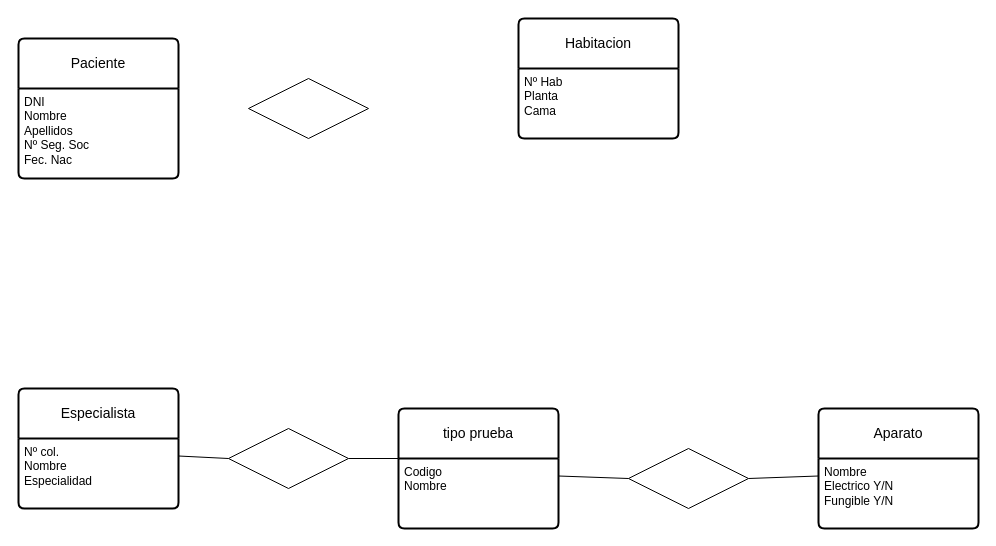
The diagram is 996 pixels wide and 546 high, and some of its shapes have lost their labels. The shapes that lost their labels are listed below. From the top down, each one's centre as x and y in pixels, then its label:
[308,108]: Necesita
[288,458]: Solicita
[688,478]: Utiliza
